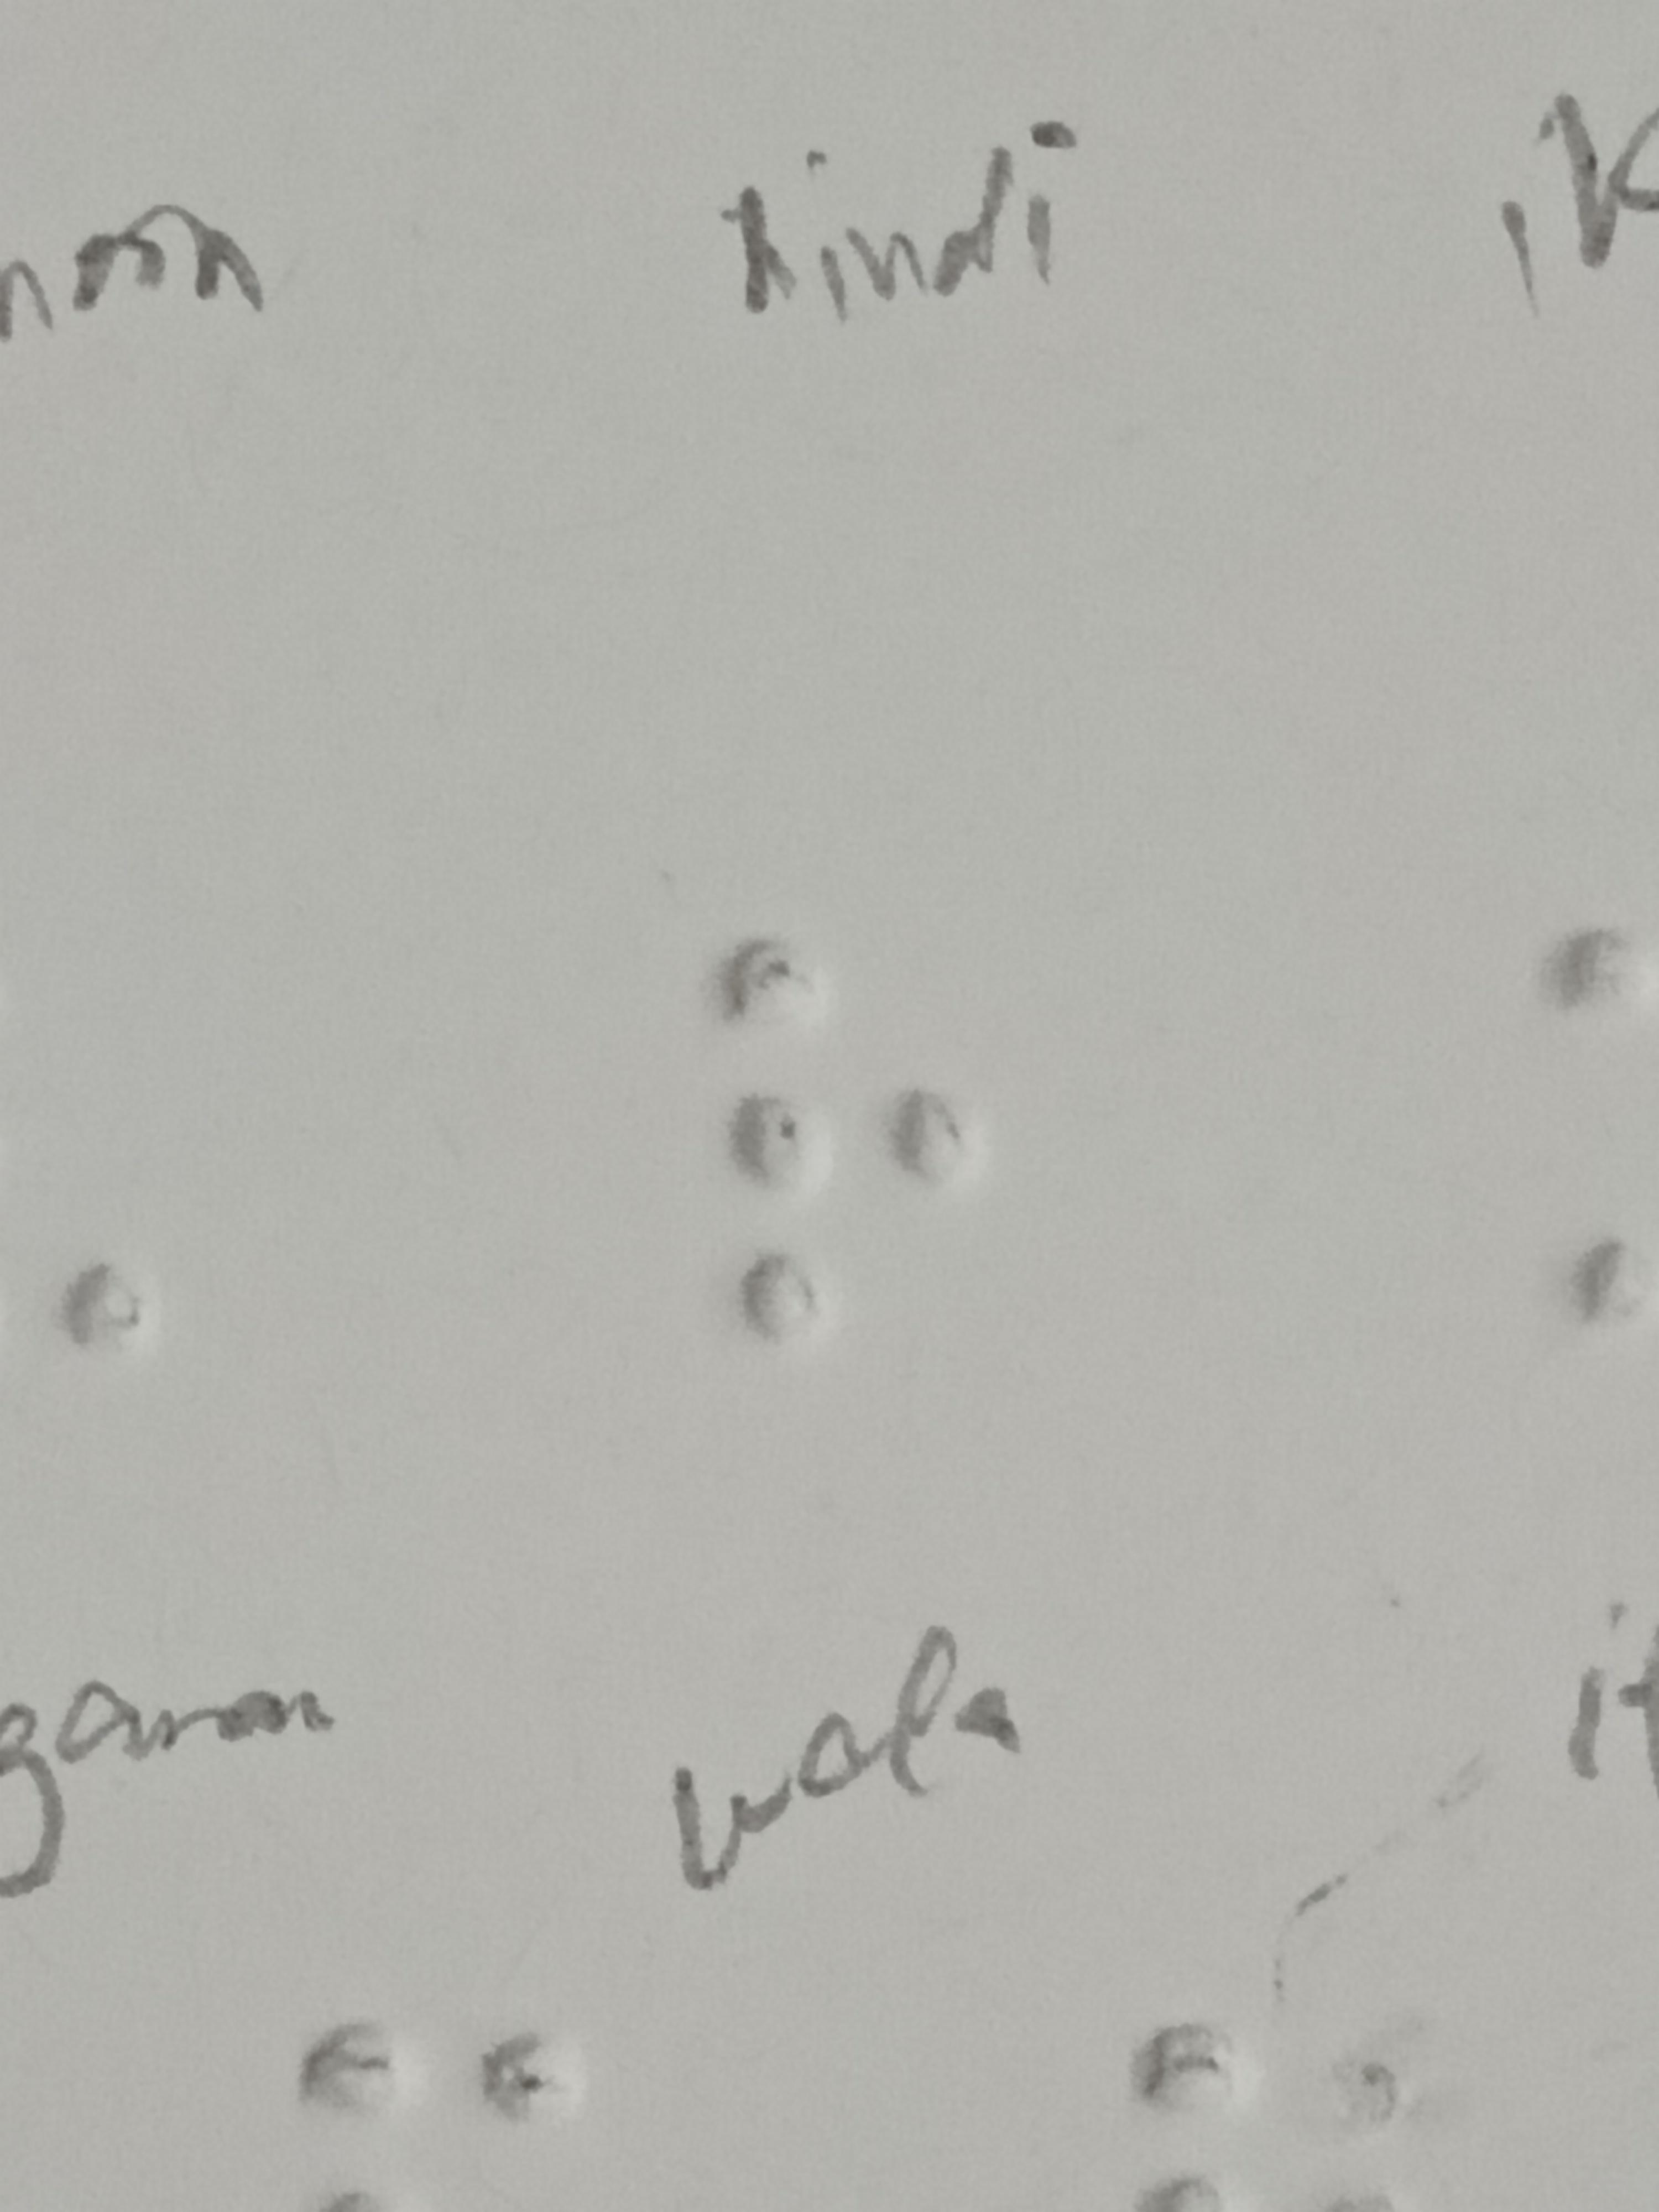one_cell_alphabet_wala: (704, 920, 969, 1371)
